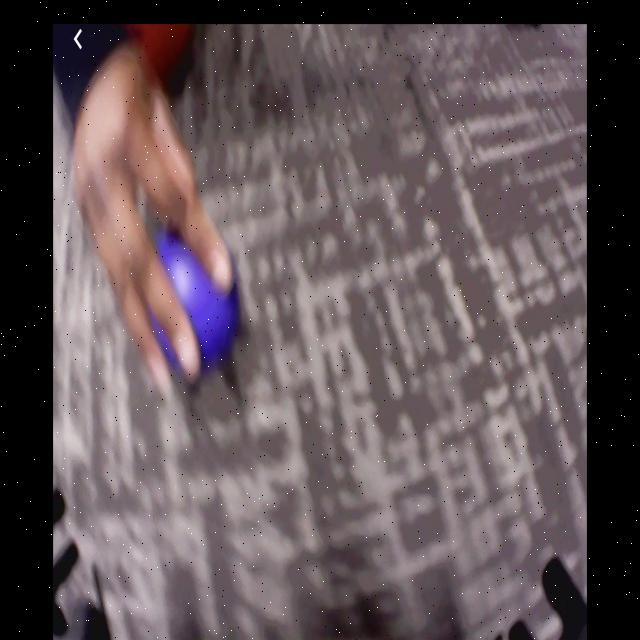ball: (143, 245, 237, 369)
